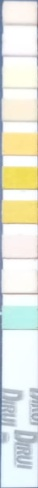color 1: (4, 5, 35, 22)
color 10: (3, 308, 38, 327)
color 2: (3, 35, 35, 53)
color 3: (4, 69, 36, 85)
color 4: (4, 101, 36, 119)
color 5: (3, 135, 36, 153)
color 6: (3, 167, 36, 187)
color 7: (2, 202, 35, 223)
color 8: (3, 237, 36, 256)
color 9: (3, 271, 36, 291)
